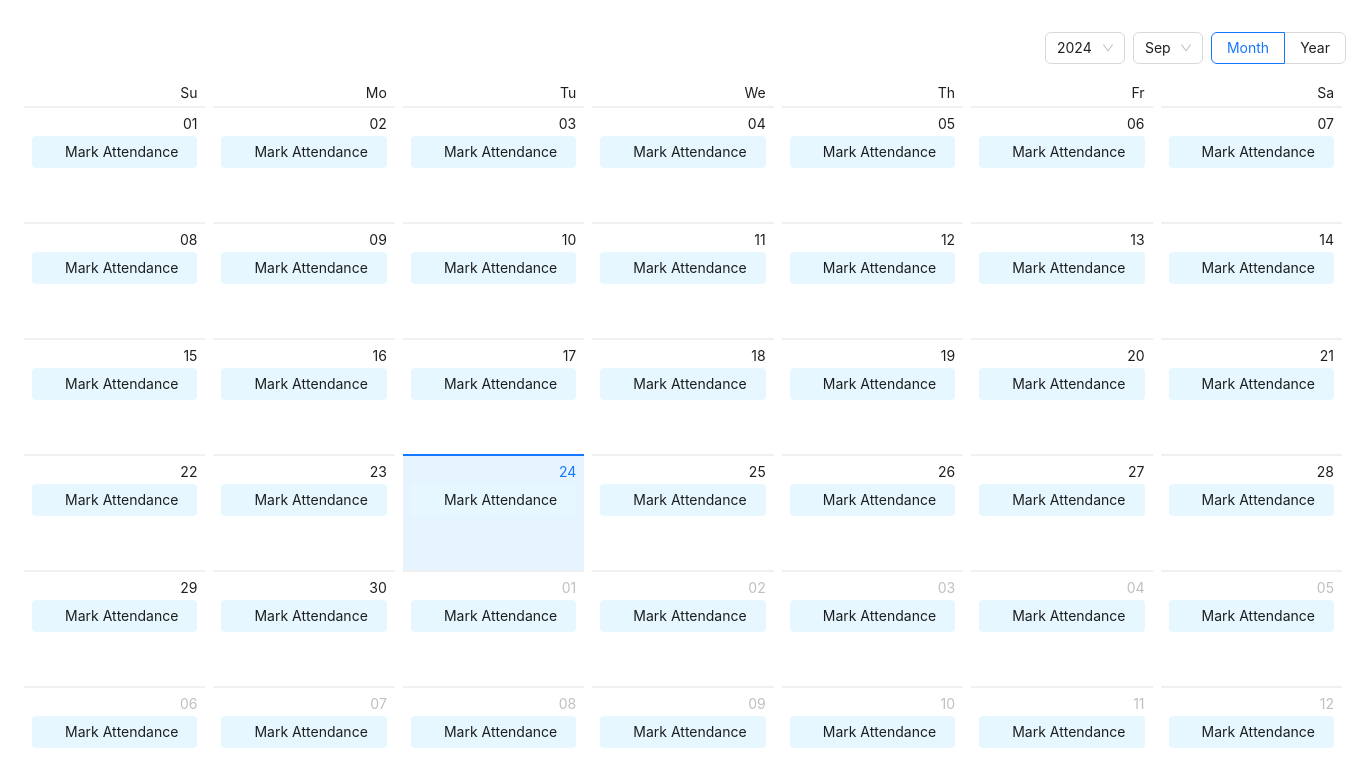
Test: AttendanceCalendar Component › toggles attendance for today correctly
Click the element showing "Mark Attendance". click: (494, 500)
box: [411,484,576,516]
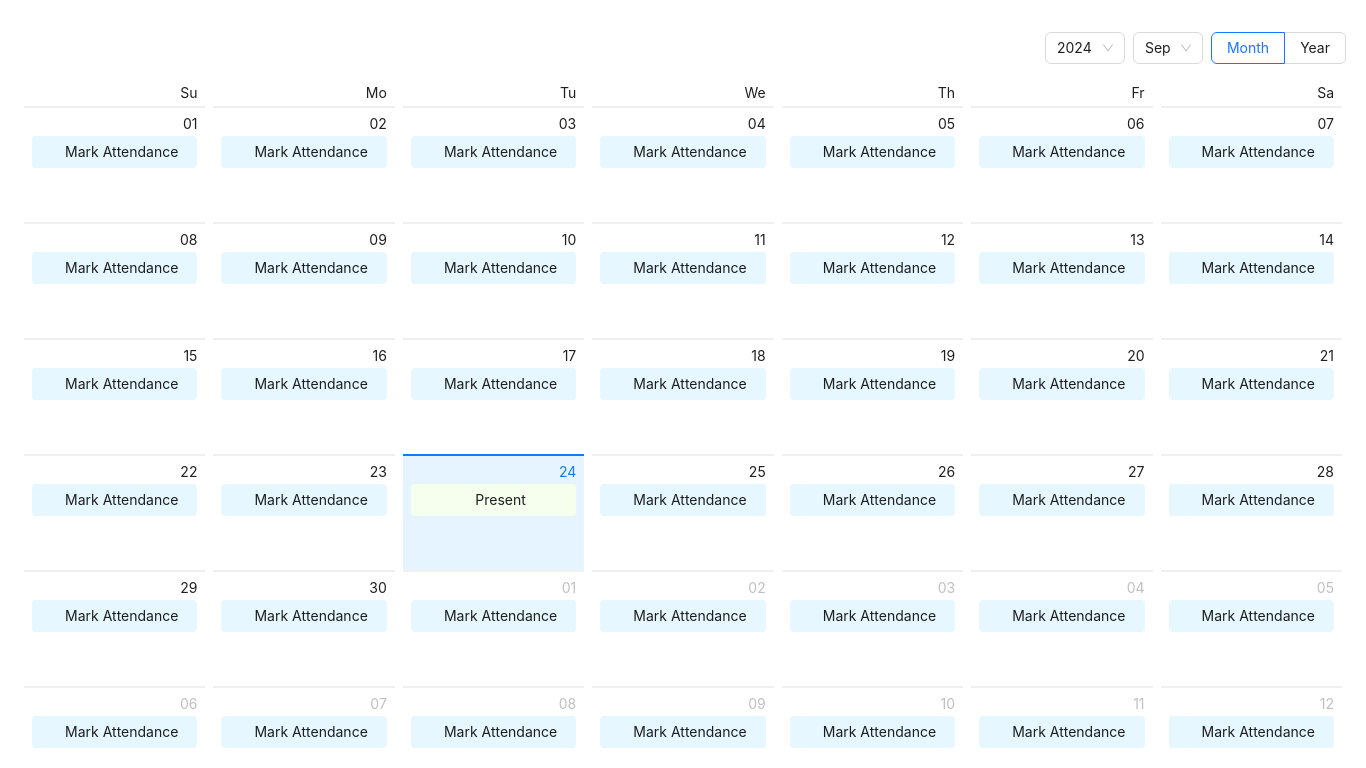
Expected: the text "Present" is shown, [475,491,526,508]
